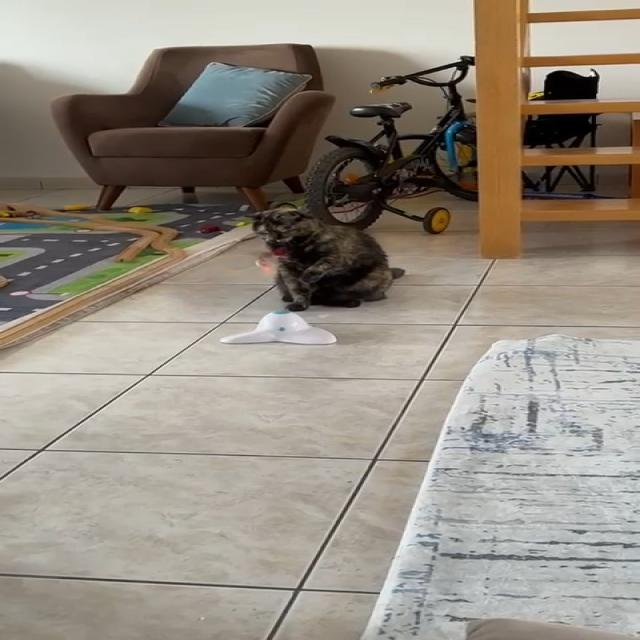authorized: (243, 205, 405, 312)
